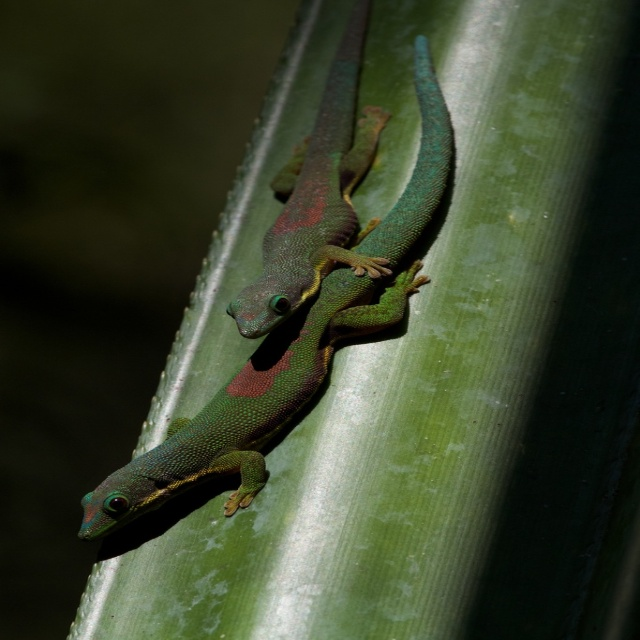Lizard: (68, 49, 477, 569)
